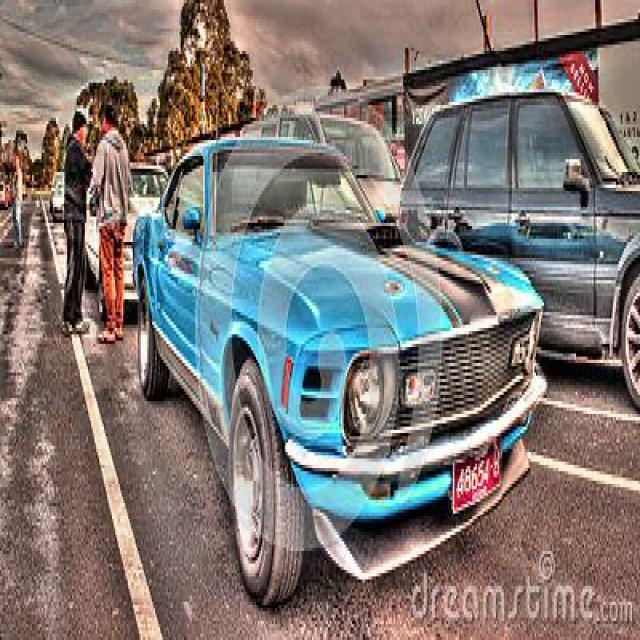licence: (444, 436, 502, 516)
